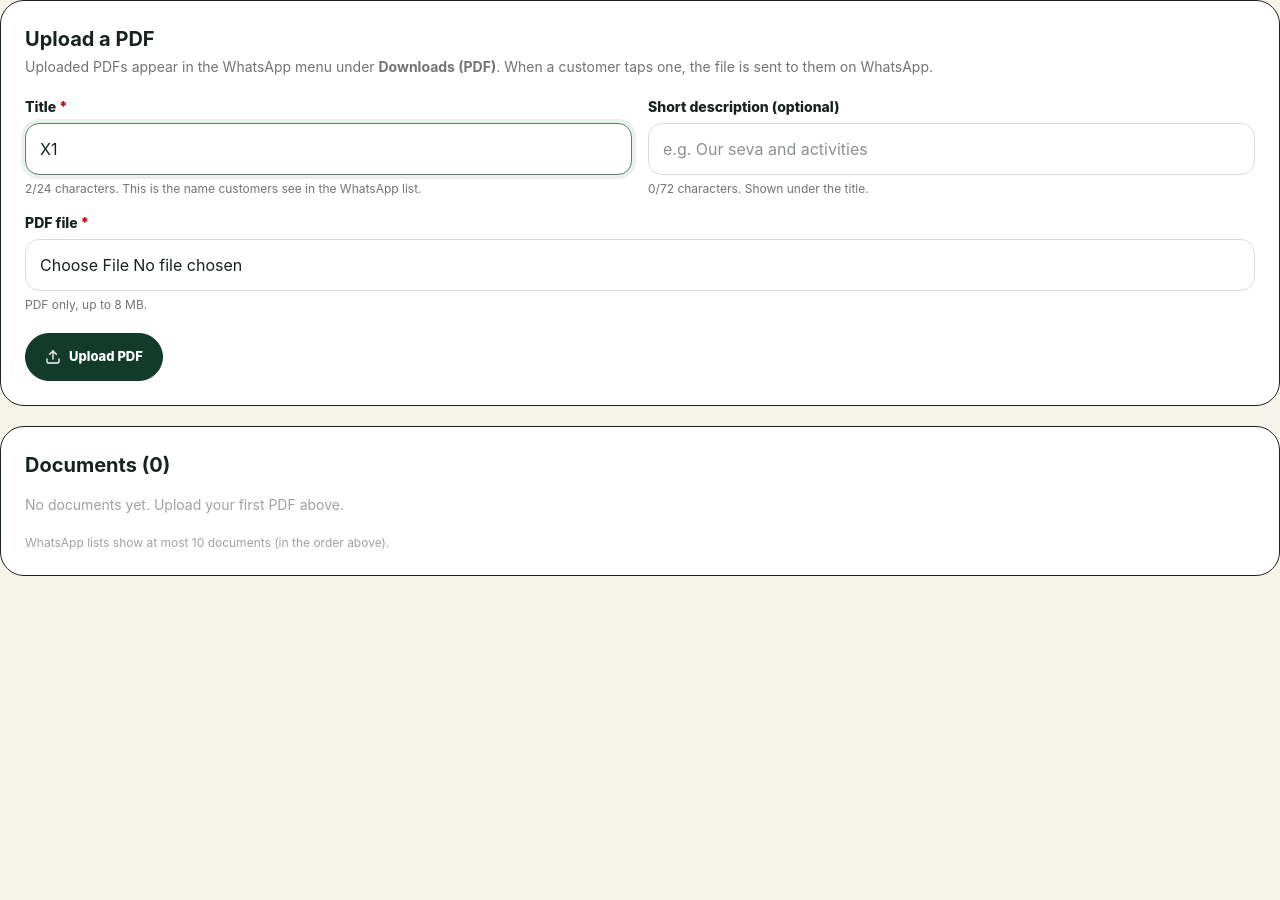
Test case: DocumentsAdmin (PDF uploads for the WhatsApp Downloads list) › rejects non-PDF files before uploading and shows the API error for bad PDFs
Earlier steps of the test are not shown.
Later steps or results of the test are not shown.
Click the button "Upload PDF" at (94,357), box top-left (25, 333), bottom-right (163, 380)
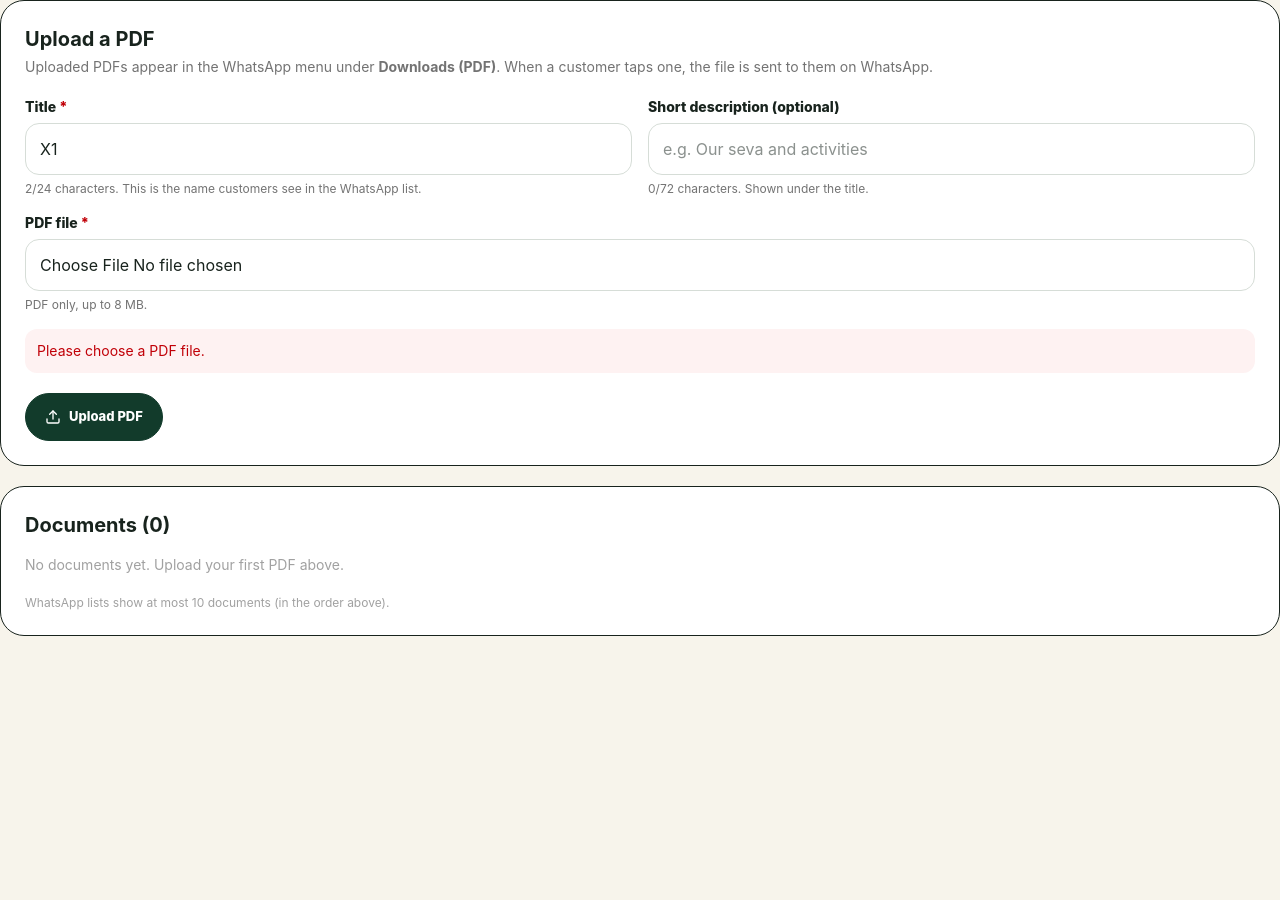
Expected: the message shows "choose a PDF file", top-left (37, 342), bottom-right (205, 359)
